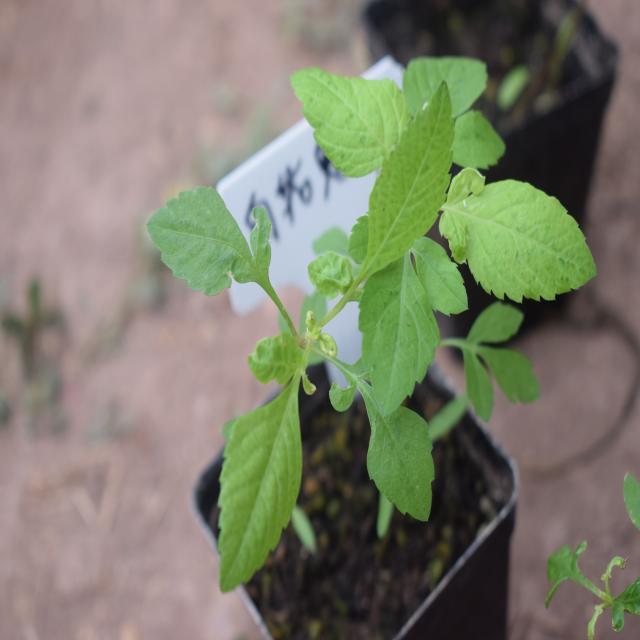Bidens pilosa: (139, 88, 479, 564)
